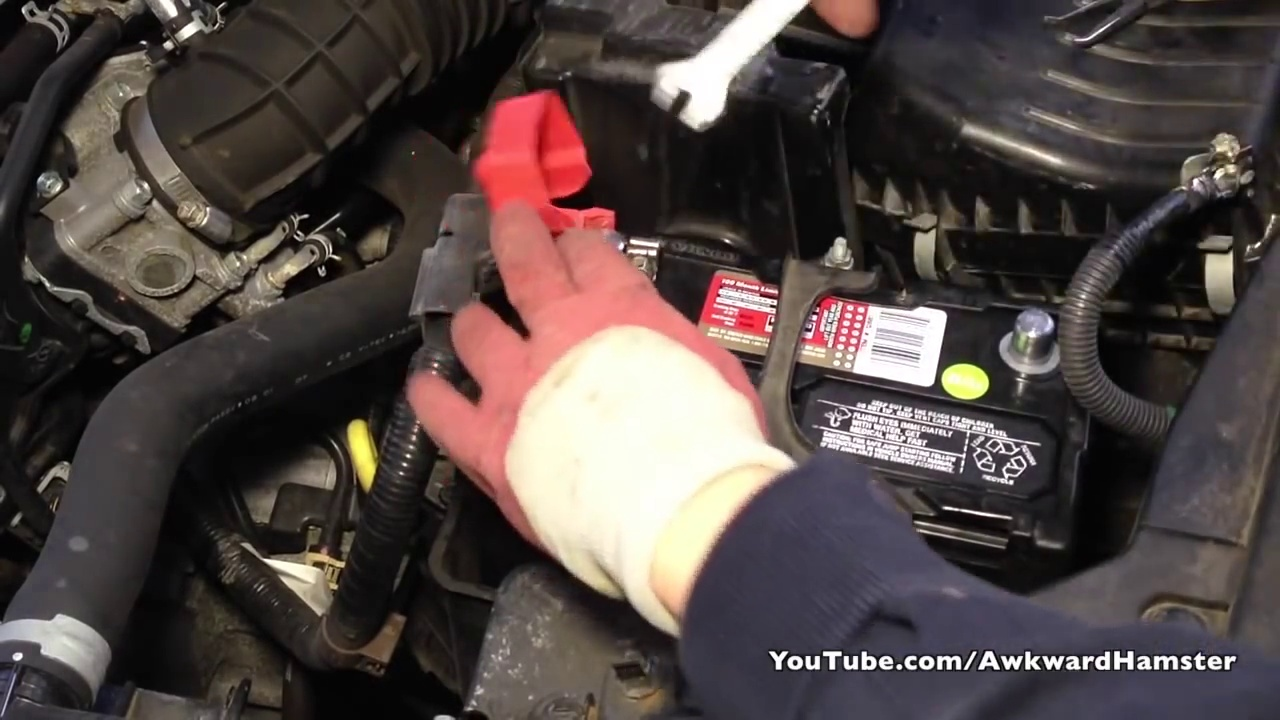battery: (616, 227, 1083, 549)
neg_disconnected: (982, 274, 1087, 394)
pos_touched: (465, 95, 633, 337)
